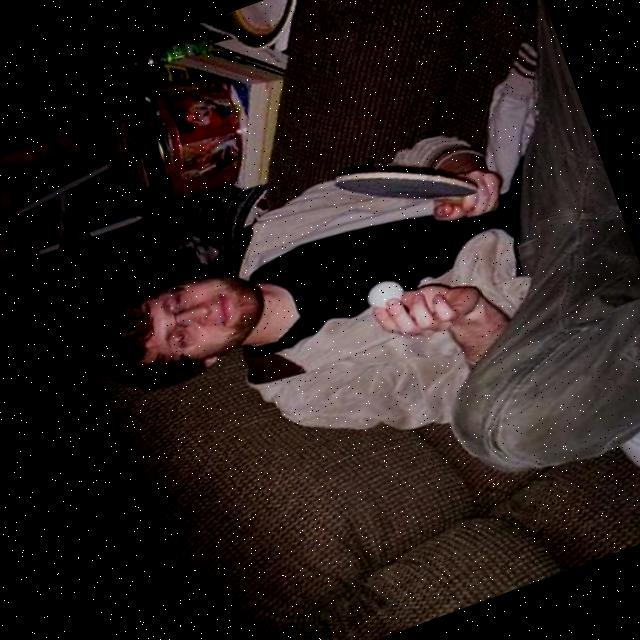ping-pong-ball: (362, 278, 408, 316)
